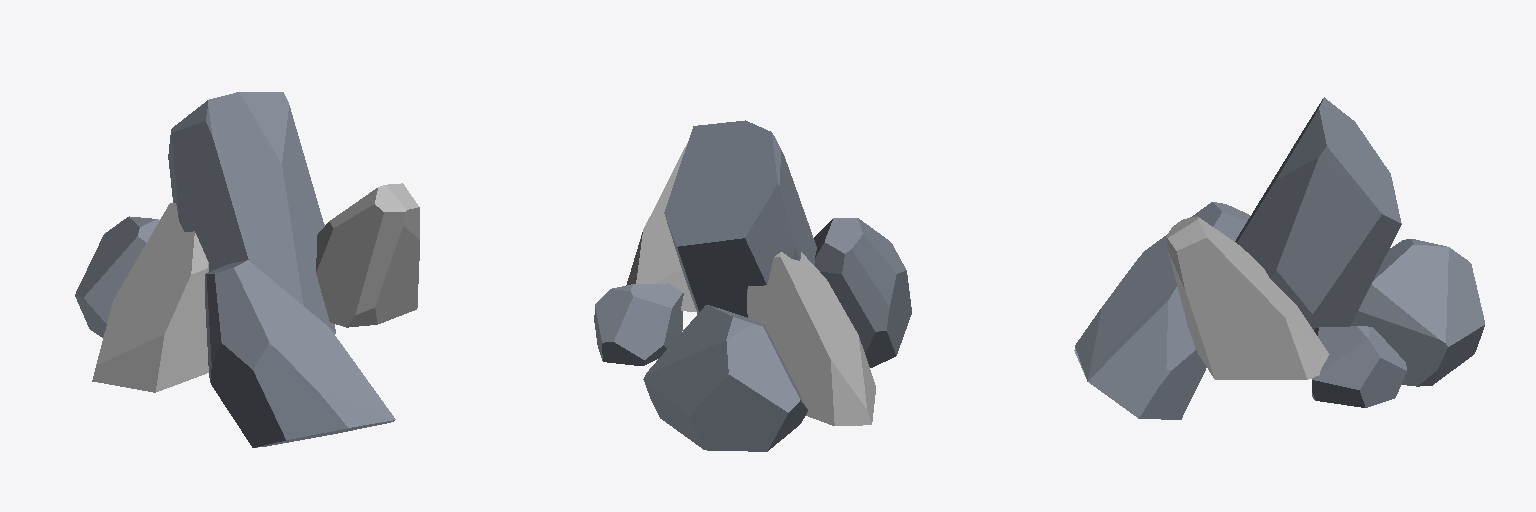
Rendered from rockygroup.obj.
3 views of the same model, side by side, from view 1: azimuth 30°, elevation 25°; view 2: azimuth 150°, elevation 25°; view 3: azimuth 270°, elevation 25° (orthographic).
Visible parts, largest first — view 1: rockygroup; view 2: rockygroup; view 3: rockygroup.
Part boxes in pixels (x1,y1,x2,y2): rockygroup: (75,92,419,447); rockygroup: (594,120,911,451); rockygroup: (1074,97,1484,419).
Bounding box in the file's own units: 4.41 × 4.69 × 5.85.